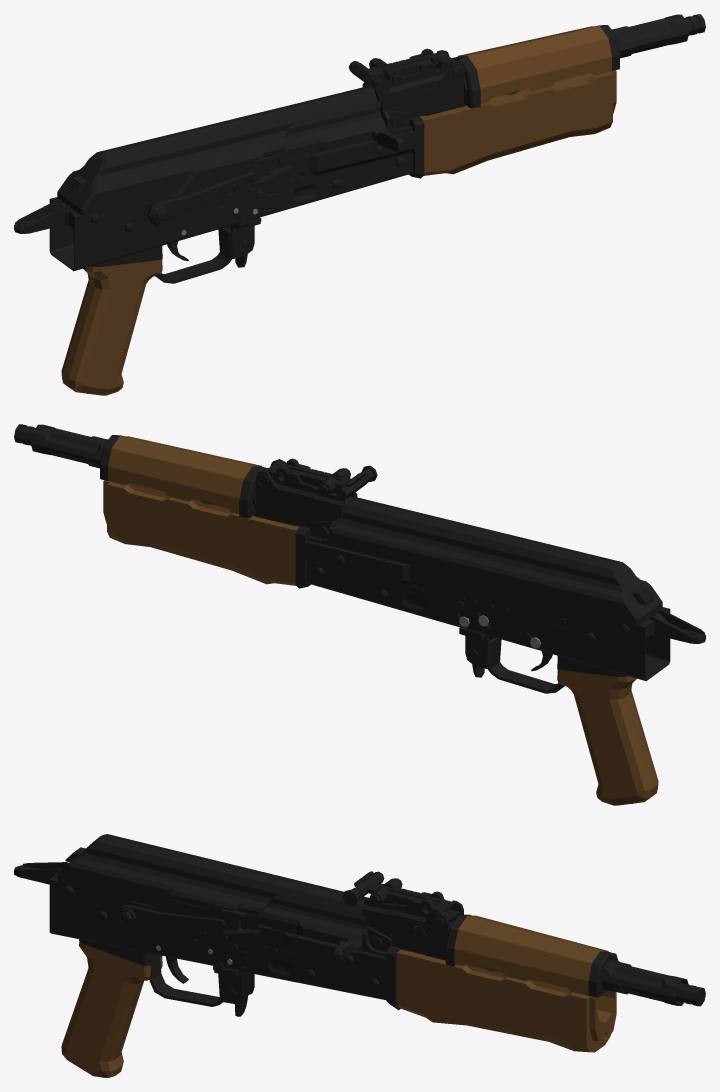
File: rpk-74.glb
3 views of the same model, one above another, from view 1: azimuth 30°, elevation 25°; view 2: azimuth 150°, elevation 25°; view 3: azimuth 330°, elevation 25° (orthographic).
Parts seen in each view (by area): view 1: rpk74 receiver_3, rpk74 handguard_6 (×2), rpk74 dust cover_7, rpk74 grip_4 (×2), rpk74 bolt_8, rpk74 selector_2; view 2: rpk74 receiver_3, rpk74 handguard_6 (×2), rpk74 dust cover_7, rpk74 grip_4 (×2); view 3: rpk74 receiver_3, rpk74 handguard_6 (×2), rpk74 dust cover_7, rpk74 grip_4 (×2), rpk74 bolt_8, rpk74 selector_2, rpk74 mag release_5.
Boxes of the visible parts, bbox=[...] form: rpk74 receiver_3: bbox=[14, 14, 689, 283]; rpk74 handguard_6 (×2): bbox=[409, 26, 616, 178]; rpk74 dust cover_7: bbox=[57, 86, 377, 215]; rpk74 grip_4 (×2): bbox=[61, 246, 162, 395]; rpk74 bolt_8: bbox=[263, 14, 705, 158]; rpk74 selector_2: bbox=[143, 151, 292, 227]; rpk74 receiver_3: bbox=[30, 424, 705, 693]; rpk74 handguard_6 (×2): bbox=[103, 436, 310, 588]; rpk74 dust cover_7: bbox=[332, 496, 662, 625]; rpk74 grip_4 (×2): bbox=[557, 656, 658, 805]; rpk74 receiver_3: bbox=[14, 847, 688, 1006]; rpk74 handguard_6 (×2): bbox=[385, 915, 616, 1052]; rpk74 dust cover_7: bbox=[57, 834, 369, 915]; rpk74 grip_4 (×2): bbox=[61, 939, 162, 1077]; rpk74 bolt_8: bbox=[241, 895, 705, 1006]; rpk74 selector_2: bbox=[117, 896, 260, 935]; rpk74 mag release_5: bbox=[229, 972, 251, 1016].
Bounding box in the file's own units: 5.26 × 1.92 × 0.6379.
